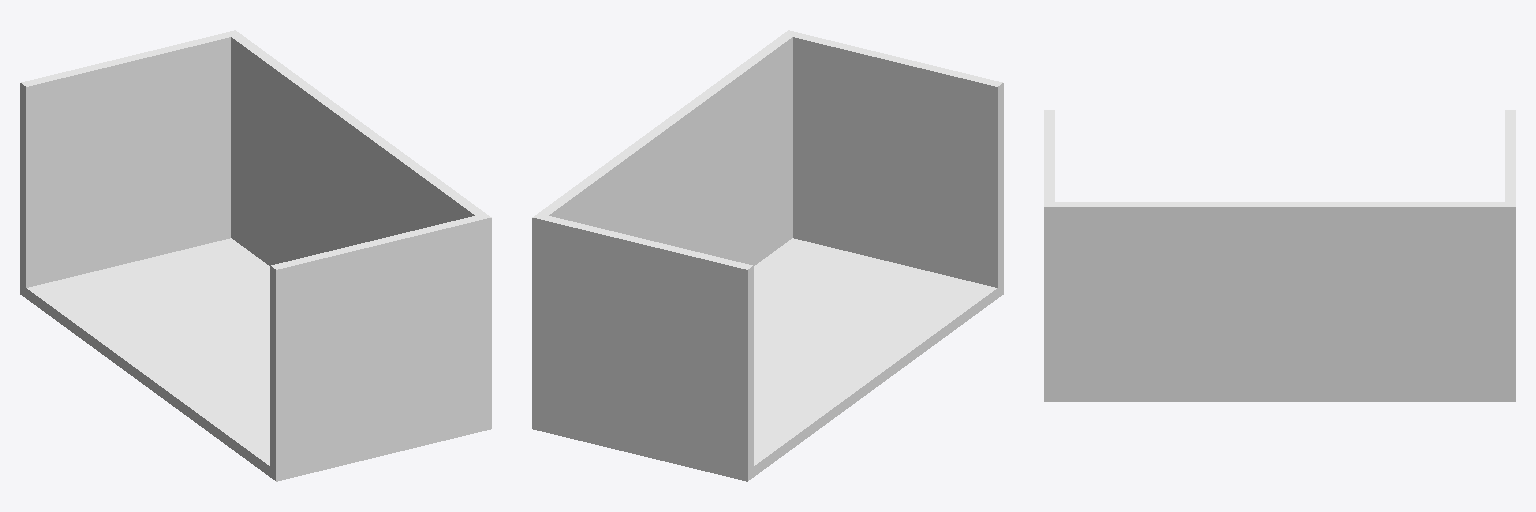
URDF robot description (cabinet):
<robot name="cabinet">
  <material name="white"><color rgba="1.0 1.0 1.0 1.0"/></material>
  <link name="base_link">
    <inertial>
      <mass value="0"/>
      <origin xyz="0 0 0" rpy="0 0 0"/>
      <inertia ixx="0"  ixy="0"  ixz="0" iyy="0" iyz="0" izz="0" />
    </inertial>
  </link>
  <!-- <link name="top_plate">
    <inertial>
      <mass value="5.0" />
      <origin xyz="0 0 0" /> 
      <inertia  ixx="1" ixy="0"  ixz="0"  iyy="1"  iyz="0"  izz="1" />
    </inertial>
    <visual>
      <origin xyz="0 0 0" rpy="0 0 0" />
      <geometry>
        <mesh filename="wood.obj" scale="0.4 0.825 0.02"/>
      </geometry>
      <material name="white"/>
    </visual>
    <collision>
      <origin xyz="0 0 0" rpy="0 0 0" />
      <geometry>
        <box size="0.4 0.825 0.02"/>
      </geometry>
    </collision>
  </link> -->
    <link name="bottom_plate">
    <inertial>
      <mass value="5.0" />
      <origin xyz="0 0 0" /> 
      <inertia  ixx="1" ixy="0"  ixz="0"  iyy="1"  iyz="0"  izz="1" />
    </inertial>
    <visual>
      <origin xyz="0 0 0" rpy="0 0 0" />
      <geometry>
        <mesh filename="wood.obj" scale="0.4 0.825 0.02"/>
      </geometry>
      <material name="white"/>
    </visual>
    <collision>
      <origin xyz="0 0 0" rpy="0 0 0" />
      <geometry>
        <box size="0.4 0.825 0.02"/>
      </geometry>
    </collision>
  </link>
  <link name="left_plate">
    <inertial>
      <mass value="5.0" />
      <origin xyz="0 0 0" /> 
      <inertia  ixx="1" ixy="0"  ixz="0"  iyy="1"  iyz="0"  izz="1" />
    </inertial>
    <visual>
      <origin xyz="0 0 0" rpy="0 0 0" />
      <geometry>
        <mesh filename="wood.obj" scale="0.4 0.02 0.395"/>
      </geometry>
      <material name="white"/>
    </visual>
    <collision>
      <origin xyz="0 0 0" rpy="0 0 0" />
      <geometry>
        <box size="0.4 0.02 0.395"/>
      </geometry>
    </collision>
  </link>
  <link name="right_plate">
    <inertial>
      <mass value="5.0" />
      <origin xyz="0 0 0" /> 
      <inertia  ixx="1" ixy="0"  ixz="0"  iyy="1"  iyz="0"  izz="1" />
    </inertial>
    <visual>
      <origin xyz="0 0 0" rpy="0 0 0" />
      <geometry>
        <mesh filename="wood.obj" scale="0.4 0.02 0.395"/>
      </geometry>
      <material name="white"/>
    </visual>
    <collision>
      <origin xyz="0 0 0" rpy="0 0 0" />
      <geometry>
        <box size="0.4 0.02 0.395"/>
      </geometry>
    </collision>
  </link>
  <link name="back_plate">
    <inertial>
      <mass value="5.0" />
      <origin xyz="0 0 0" /> 
      <inertia  ixx="1" ixy="0"  ixz="0"  iyy="1"  iyz="0"  izz="1" />
    </inertial>
    <visual>
      <origin xyz="0 0 0" rpy="0 0 0" />
      <geometry>
        <mesh filename="wood.obj" scale="0.02 0.865 0.395"/>
      </geometry>
      <material name="white"/>
    </visual>
    <collision>
      <origin xyz="0 0 0" rpy="0 0 0" />
      <geometry>
        <box size="0.02 0.865 0.395"/>
      </geometry>
    </collision>
  </link>
  <!-- <joint name="top_plate" type="fixed">
    <parent link="base_link"/>
    <child link="top_plate"/>
    <origin xyz="0.00 0.00 0.365"/>
  </joint> -->
    <joint name="bottom_plate" type="fixed">
    <parent link="base_link"/>
    <child link="bottom_plate"/>
    <origin xyz="0.00 0.00 -0.01"/>
  </joint>
  <joint name="left_plate" type="fixed">
    <parent link="base_link"/>
    <child link="left_plate"/>
    <origin xyz="0.00 0.4225 0.1775"/>
  </joint>
  <joint name="right_plate" type="fixed">
    <parent link="base_link"/>
    <child link="right_plate"/>
    <origin xyz="0.00 -0.4225 0.1775"/>
  </joint>
  <joint name="back_plate" type="fixed">
    <parent link="base_link"/>
    <child link="back_plate"/>
    <origin xyz="0.21 0.00 0.1775"/>
  </joint>
</robot>

--- Facts derived from the render (not from the file) ---
3 views of the same robot in one strip: view 1: azimuth 30°, elevation 25°; view 2: azimuth 150°, elevation 25°; view 3: azimuth 270°, elevation 25° (orthographic).
Robot: cabinet — 5 links, 4 joints (4 fixed); root link base_link; default pose: all joints at 0.
Visible links, largest first — view 1: right_plate, left_plate, back_plate, bottom_plate; view 2: left_plate, right_plate, back_plate, bottom_plate; view 3: back_plate, left_plate, right_plate.
Boxes of the visible links, x1,y1,x2,y2 form: right_plate: (270,216,480,481); left_plate: (20,33,230,297); back_plate: (226,30,491,431); bottom_plate: (26,238,269,476); left_plate: (543,216,753,481); right_plate: (793,33,1003,297); back_plate: (532,30,797,431); bottom_plate: (754,238,997,476); back_plate: (1044,202,1515,401); left_plate: (1505,110,1515,201); right_plate: (1044,110,1054,201).
Size in the robot's own frame: 0.42 by 0.865 by 0.395 metres.
4 mesh visuals loaded from 1 distinct referenced files (1 OBJ).